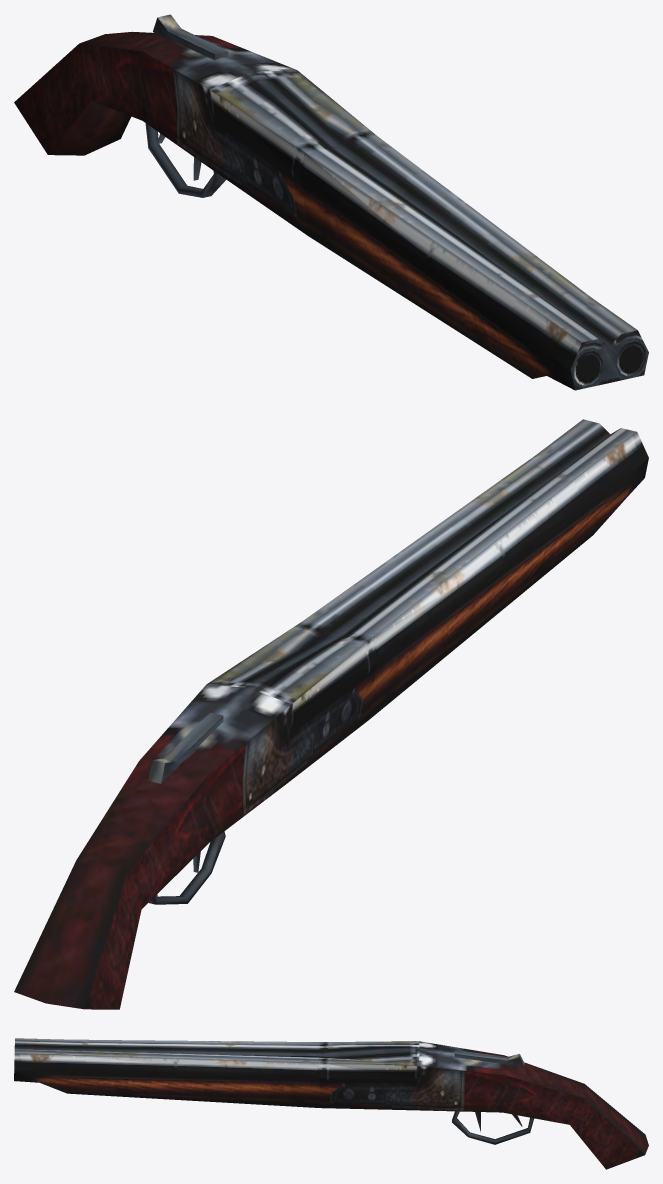
The model's file is obryzn_obj.FBX.
The picture shows the model from 3 angles, top to bottom: view 1: azimuth 30°, elevation 25°; view 2: azimuth 150°, elevation 25°; view 3: azimuth 270°, elevation 25°; orthographic projection. The views are drawn at different scales.
Visible parts, largest first — view 1: obryzn_obj; view 2: obryzn_obj; view 3: obryzn_obj.
Boxes of the visible parts, x1,y1,x2,y2 form: obryzn_obj: (14, 14, 648, 390); obryzn_obj: (14, 419, 648, 1009); obryzn_obj: (14, 1038, 648, 1169).
Size of the model in its own units: 1.88 by 20.44 by 4.15.
